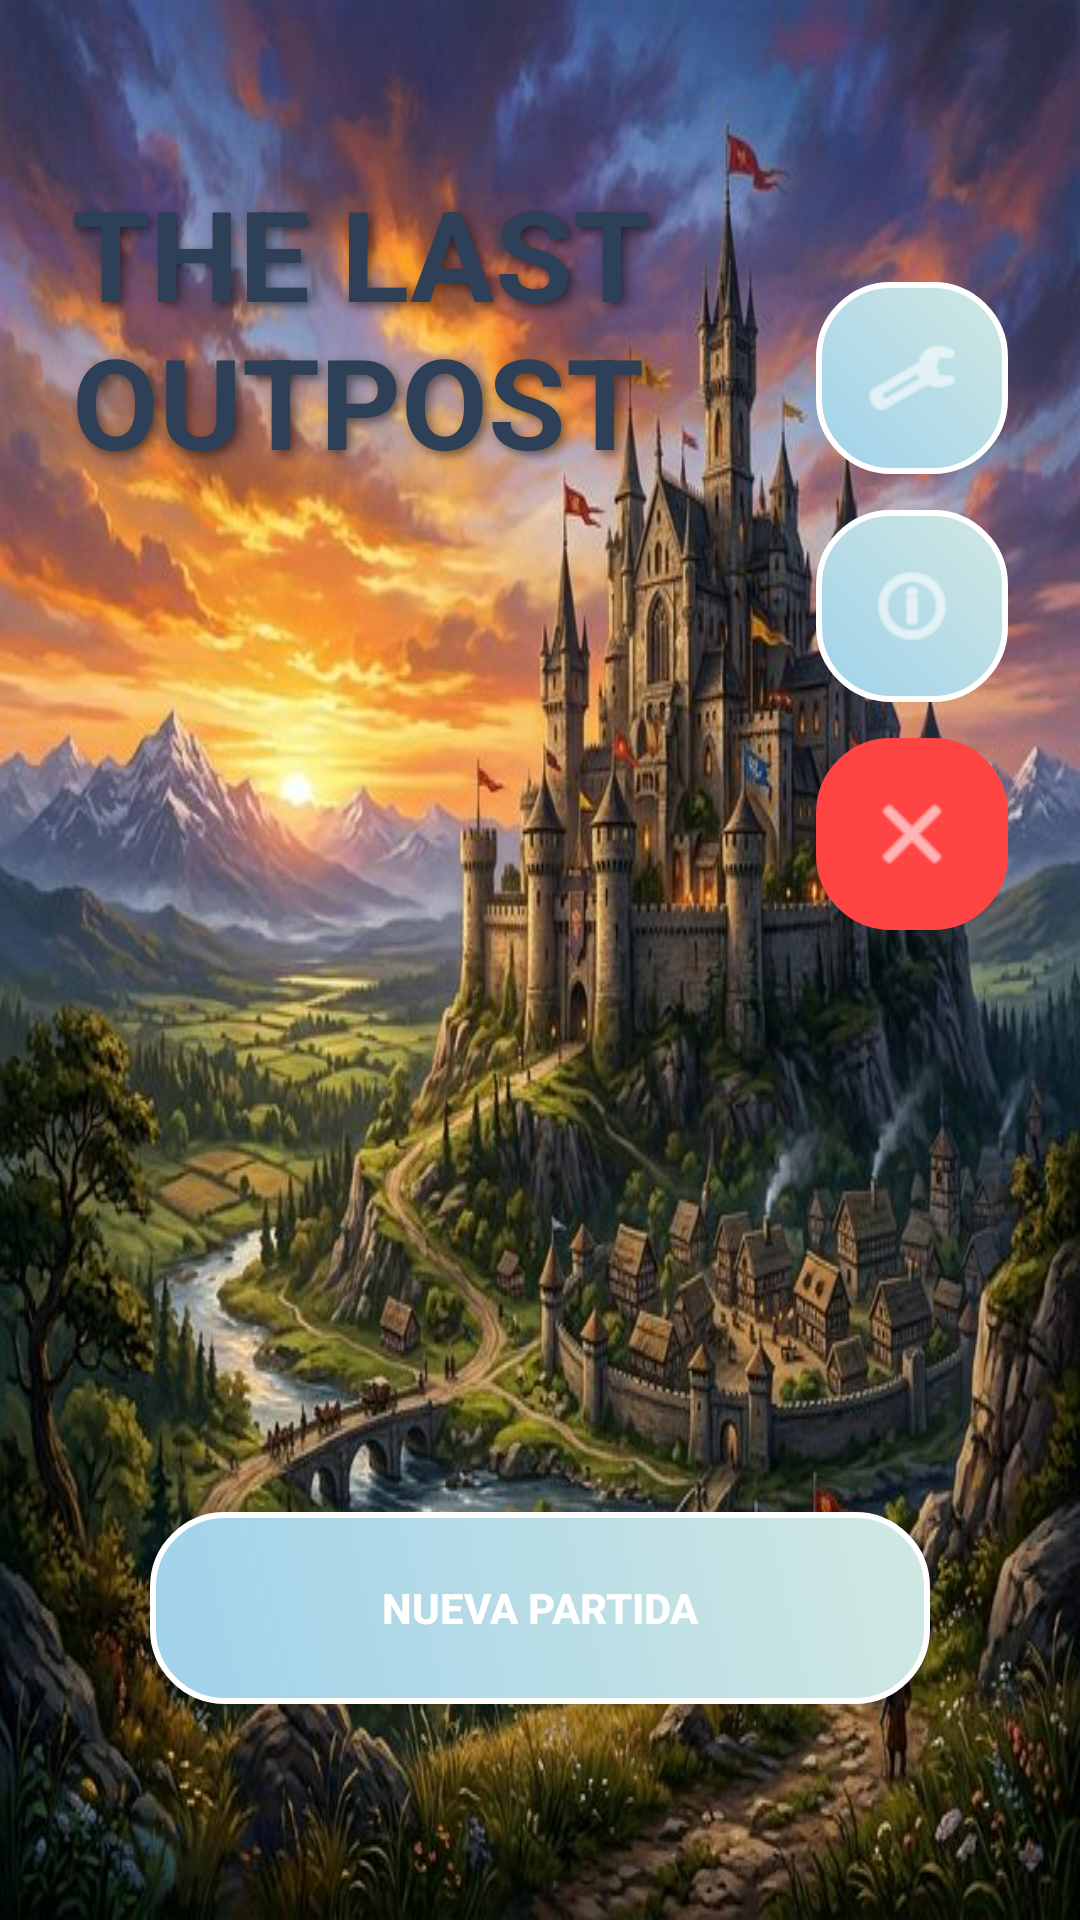

Point at icon controls on the screen. Image size 1080 × 1920, points as (x,y).
Ajustes: (912,378)
Créditos: (912,606)
Salir de la aplicación: (912,834)
